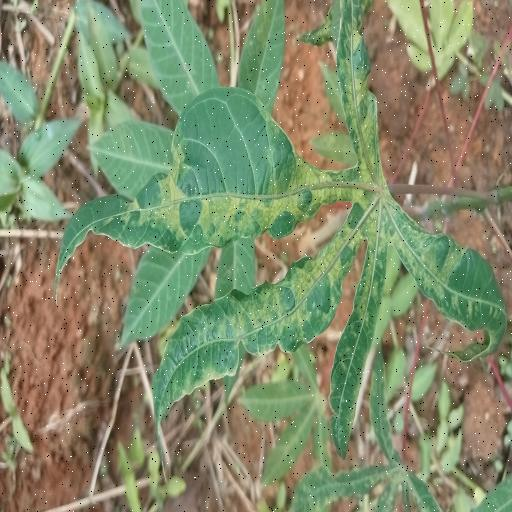Cassava_Mosaic: (54, 0, 512, 464)
